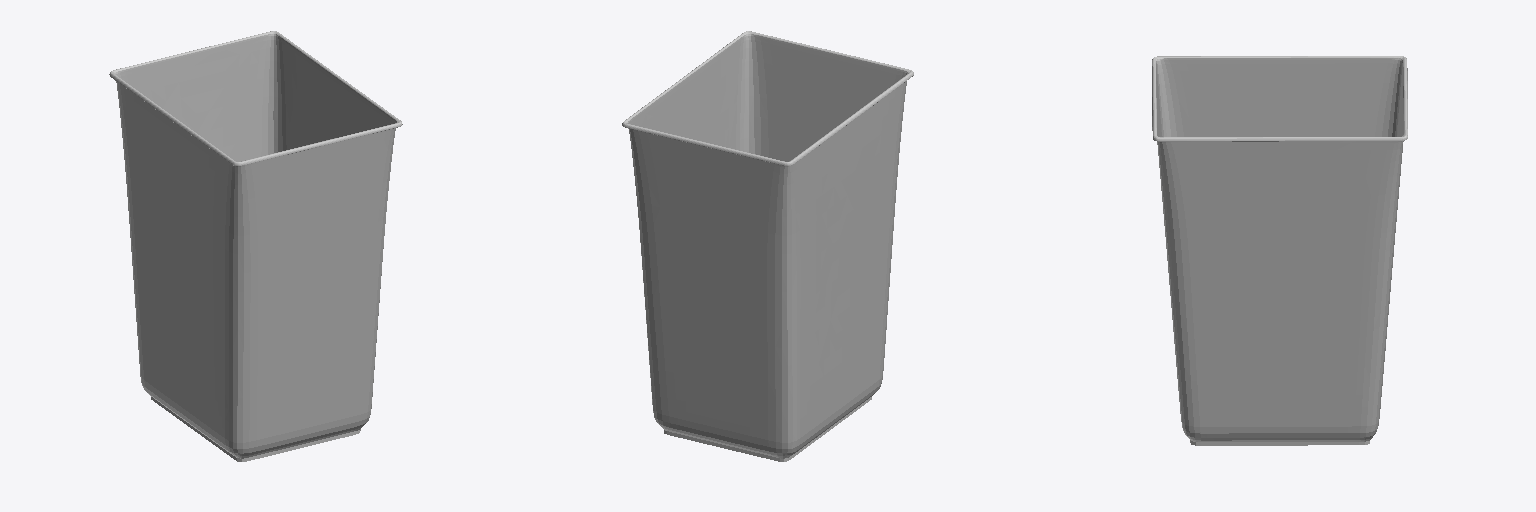
The model's file is botebasura2.obj.
3 renders of one model, left to right at view 1: azimuth 30°, elevation 25°; view 2: azimuth 150°, elevation 25°; view 3: azimuth 270°, elevation 25°, orthographic.
Parts seen in each view (by area): view 1: polySurface324 Recycle_Trash_Bin_OBJ:Mesh; view 2: polySurface324 Recycle_Trash_Bin_OBJ:Mesh; view 3: polySurface324 Recycle_Trash_Bin_OBJ:Mesh.
Boxes of the visible parts, x1=… form: polySurface324 Recycle_Trash_Bin_OBJ:Mesh: x1=109, y1=31, x2=402, y2=461; polySurface324 Recycle_Trash_Bin_OBJ:Mesh: x1=622, y1=31, x2=913, y2=461; polySurface324 Recycle_Trash_Bin_OBJ:Mesh: x1=1152, y1=56, x2=1407, y2=445.
Bounding box in the file's own units: 0.1762 × 0.3133 × 0.2288.